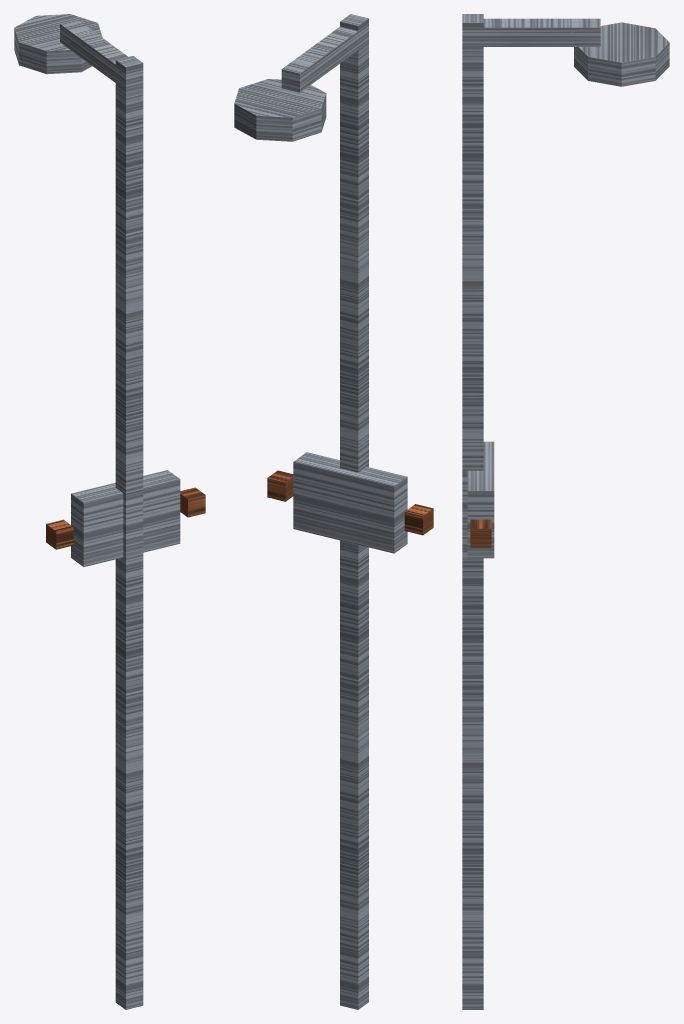
Rendered from shower.fbx.
3 views of the same model, side by side, from view 1: azimuth 30°, elevation 25°; view 2: azimuth 150°, elevation 25°; view 3: azimuth 270°, elevation 25° (orthographic). The views are drawn at different scales.
Visible parts, largest first — view 1: shower; view 2: shower; view 3: shower.
Boxes of the visible parts, bbox=[...] form: shower: bbox=[14, 14, 205, 1009]; shower: bbox=[234, 14, 433, 1009]; shower: bbox=[462, 14, 669, 1009].
Bounding box in the file's own units: 34 × 205 × 39.
